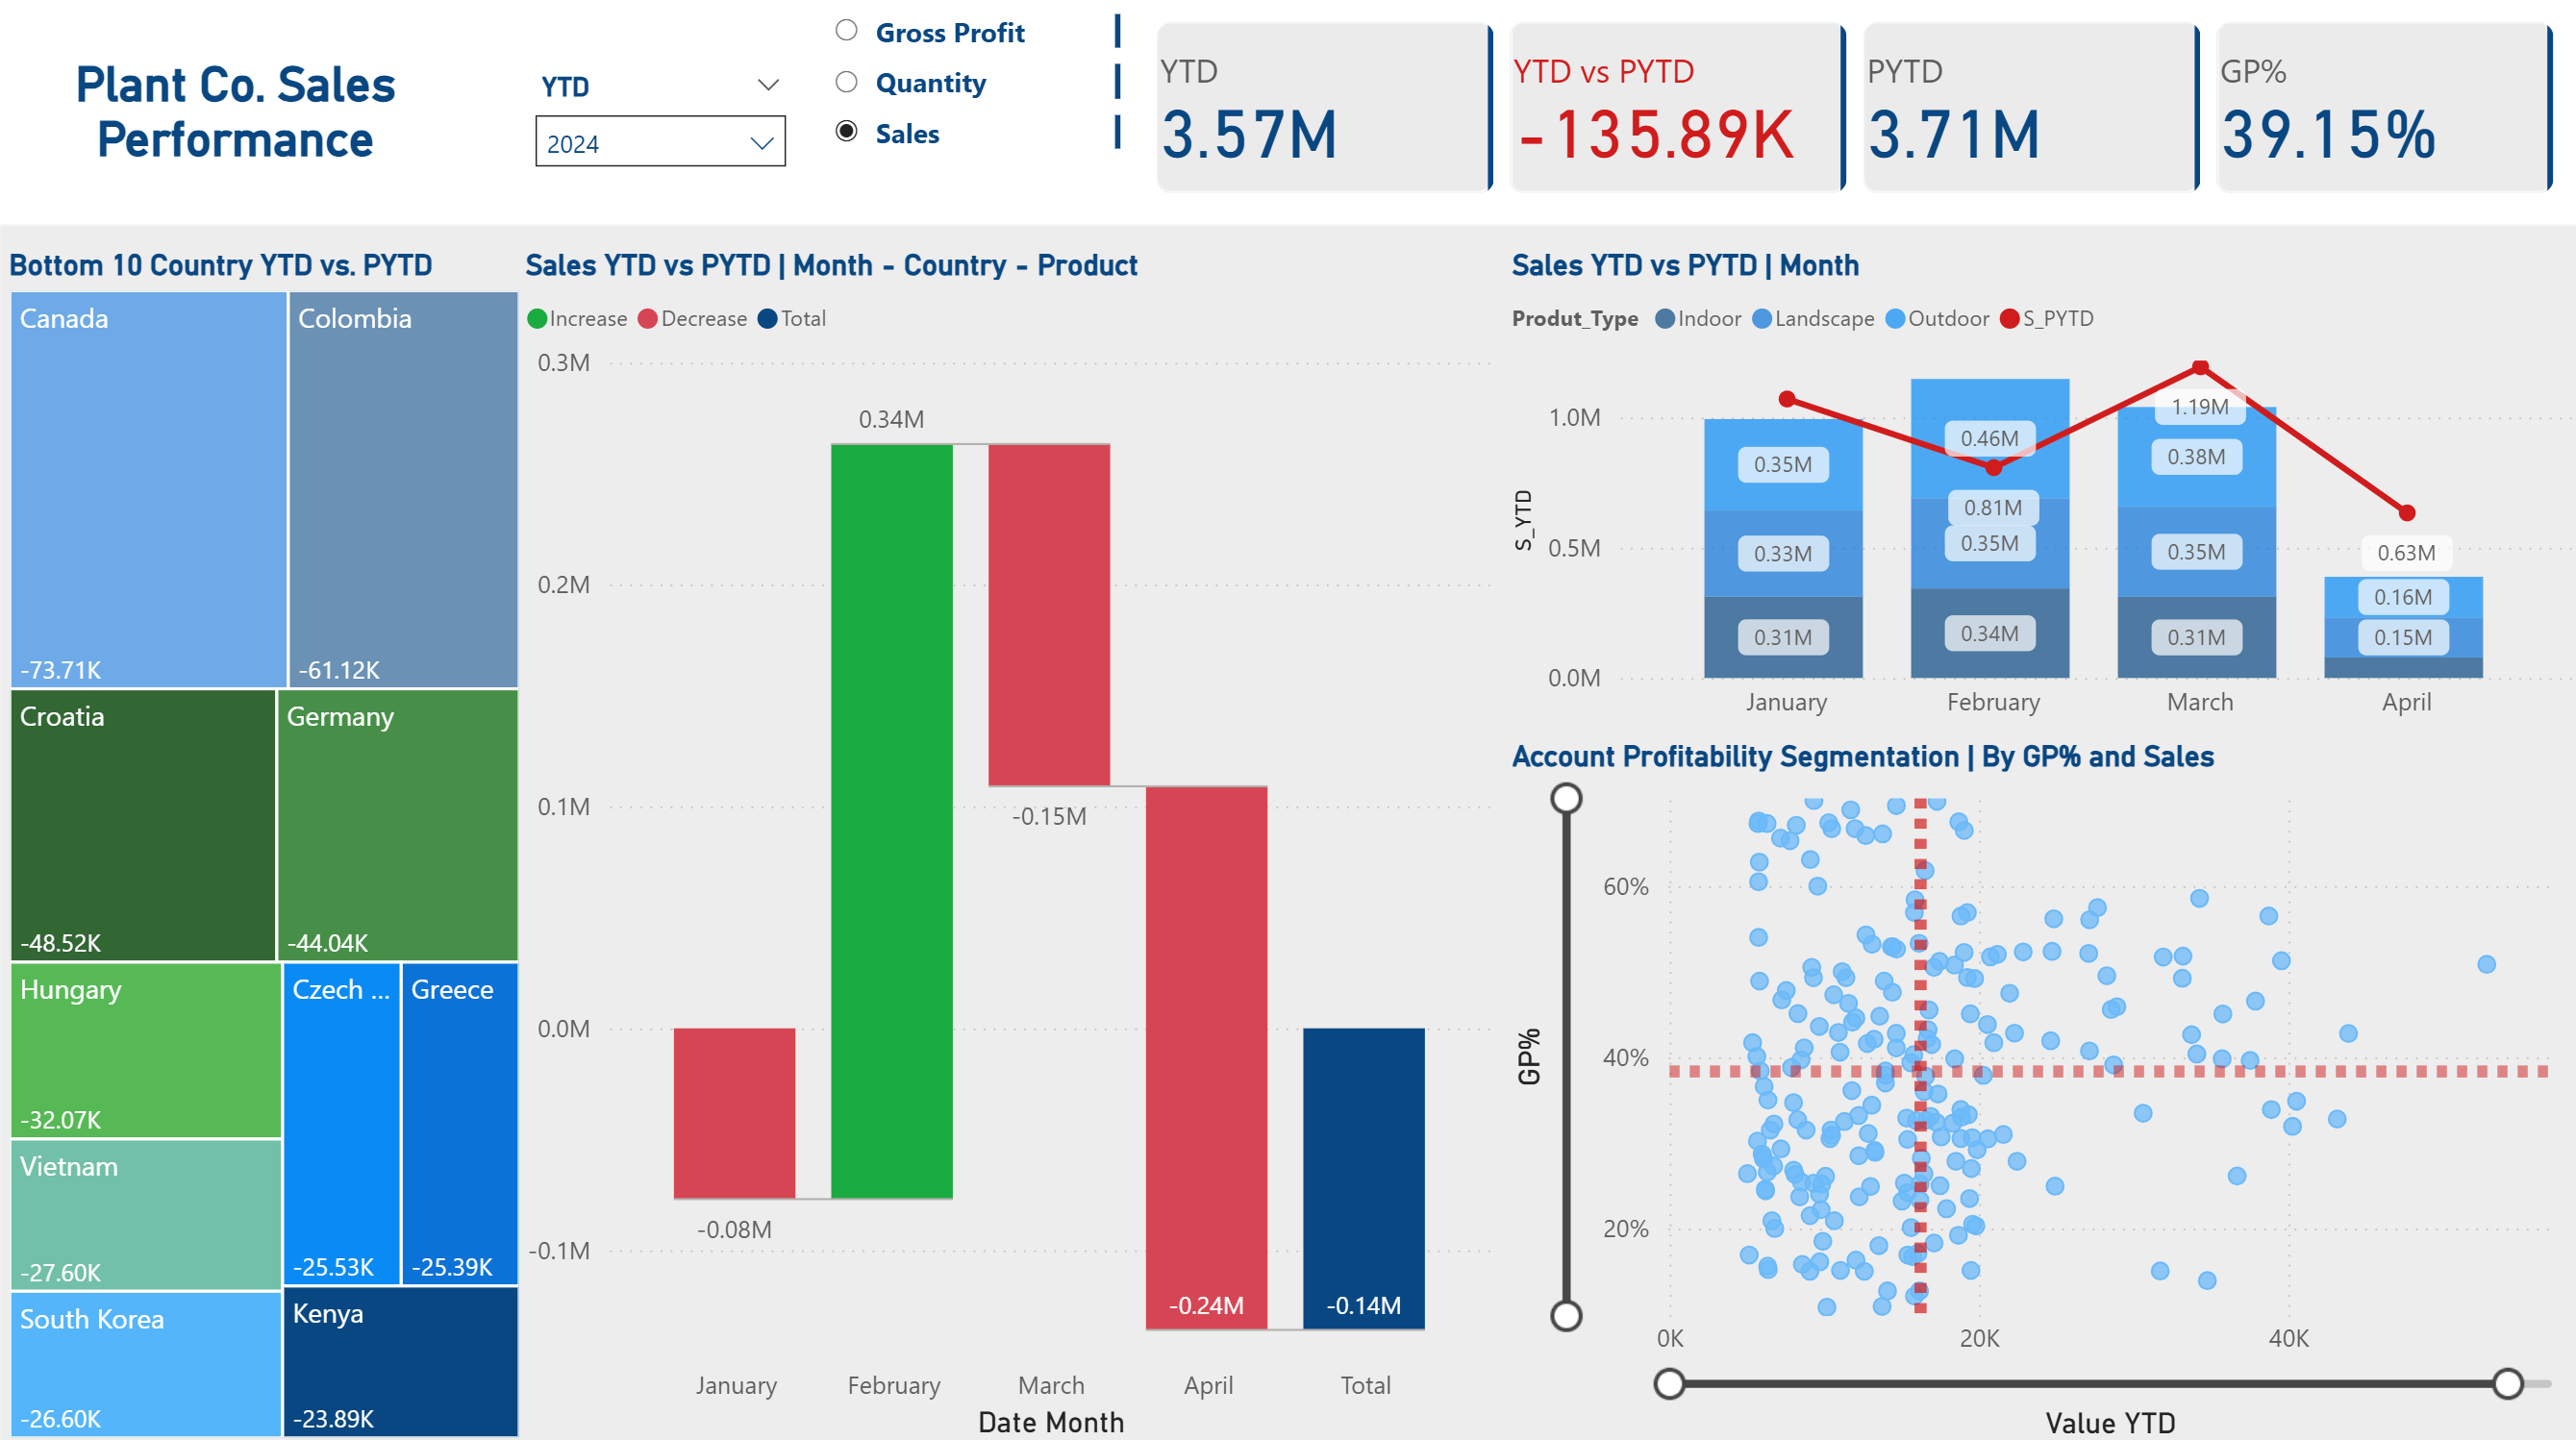

The page's visual inventory and layout, read from the dashboard file:
{"tool":"powerbi","page":{"name":"Page 1","canvas":[1280,720],"ordinal":0},"visuals":[{"type":"slicer","fields":{"Values":["Slc_Values.Values"]},"box":[400,0,160,96],"z":0},{"type":"cardVisual","fields":{"Data":["_Measures.S_YTD","_Measures.YTD vs PYTD","_Measures.S_PYTD","_Measures.GP%"]},"box":[560,0,720,112],"z":1000},{"type":"slicer","fields":{"Values":["Dim_Date.Date.Variation.Date Hierarchy.Year"]},"box":[255.9,32.6,143.9,63.3],"z":2000},{"type":"treemap","title":"Bottom 10 Country YTD vs. PYTD","fields":{"Group":["Dim_Account.country"],"Values":["_Measures.YTD vs PYTD"]},"box":[0,125.3,262.3,594.4],"z":3000},{"type":"waterfallChart","fields":{"Y":["_Measures.YTD vs PYTD"],"Category":["Dim_Date.Date.Variation.Date Hierarchy.Month","Dim_Account.country","Dim_Product.Produt_Type","Dim_Product.Product_Name"]},"box":[255.8,125.3,488.4,594.4],"z":4000},{"type":"lineStackedColumnComboChart","fields":{"Y":["_Measures.S_YTD"],"Y2":["_Measures.S_PYTD"],"Category":["Dim_Date.Date.Variation.Date Hierarchy.Quarter","Dim_Date.Date.Variation.Date Hierarchy.Month"],"Series":["Dim_Product.Produt_Type"]},"box":[744.2,125.3,534.9,242.9],"z":5000},{"type":"scatterChart","fields":{"Y":["_Measures.GP%"],"X":["_Measures.S_YTD"],"Category":["Dim_Account.Account"]},"box":[744.2,368.2,534.9,351.4],"z":6000},{"type":"card","fields":{"Values":["_Measures._Report title"]},"box":[0,0,240,112],"z":7000}]}

Visuals, with their boxes in screenshot pixels (x1, y1, x2, y2), scaled from the page's 1280x720 canvas onto the 2576x1440 screenshot:
slicer - Slc_Values.Values: detection(805, 0, 1127, 192)
cardVisual - _Measures.S_YTD x _Measures.YTD vs PYTD: detection(1127, 0, 2575, 224)
slicer - Dim_Date.Date.Variation.Date Hierarchy.Year: detection(515, 65, 805, 192)
"Bottom 10 Country YTD vs. PYTD" treemap: detection(0, 251, 528, 1439)
waterfallChart - _Measures.YTD vs PYTD x Dim_Date.Date.Variation.Date Hierarchy.Month: detection(514, 251, 1498, 1439)
lineStackedColumnComboChart - _Measures.S_YTD x _Measures.S_PYTD: detection(1498, 251, 2574, 736)
scatterChart - _Measures.GP% x _Measures.S_YTD: detection(1498, 736, 2574, 1439)
card - _Measures._Report title: detection(0, 0, 483, 224)
